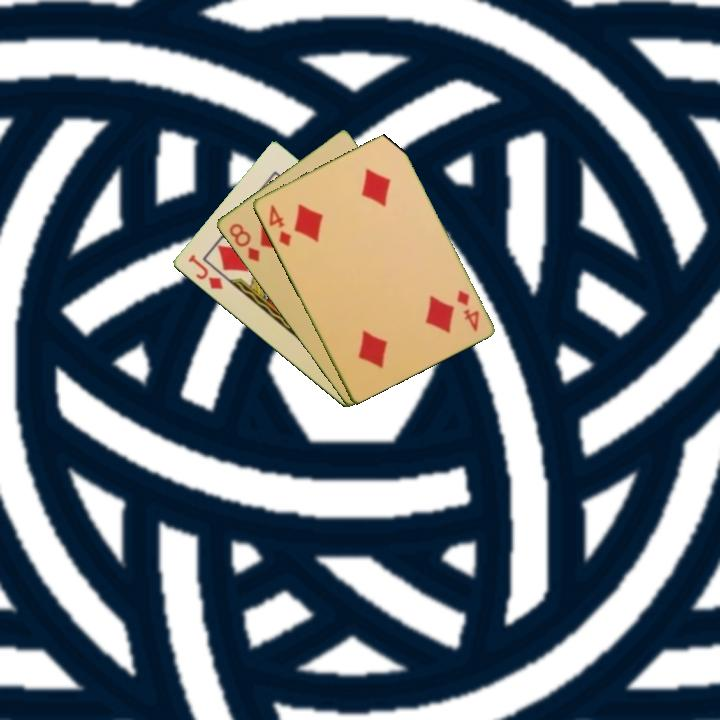4d: (265, 201, 294, 249), (453, 286, 482, 334)
8d: (225, 220, 262, 265)
Jd: (184, 251, 226, 293)
